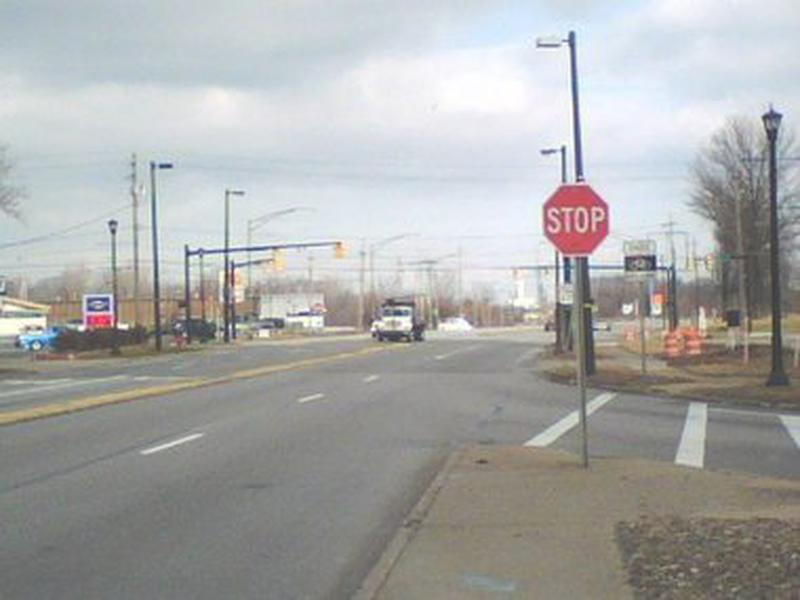stop: (538, 181, 615, 260)
